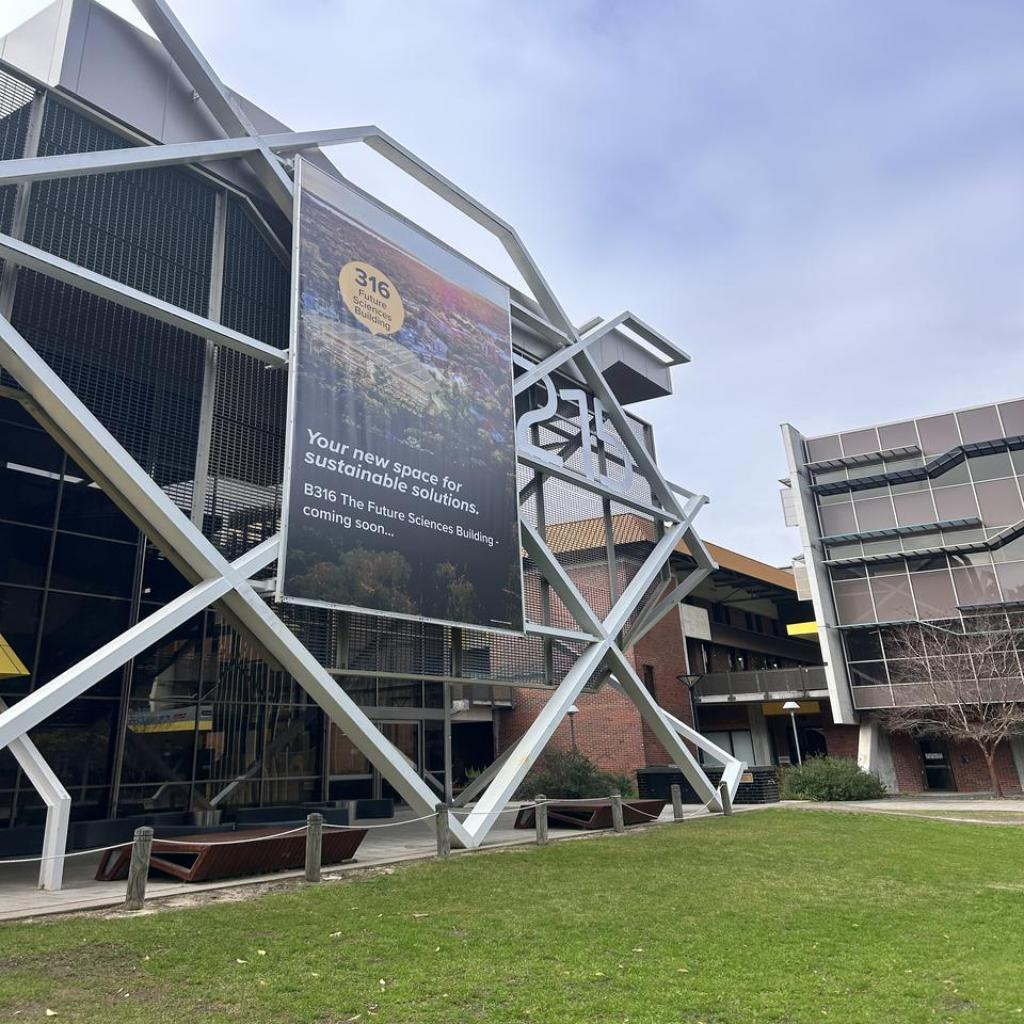BuildingCodes: (511, 352, 635, 494)
